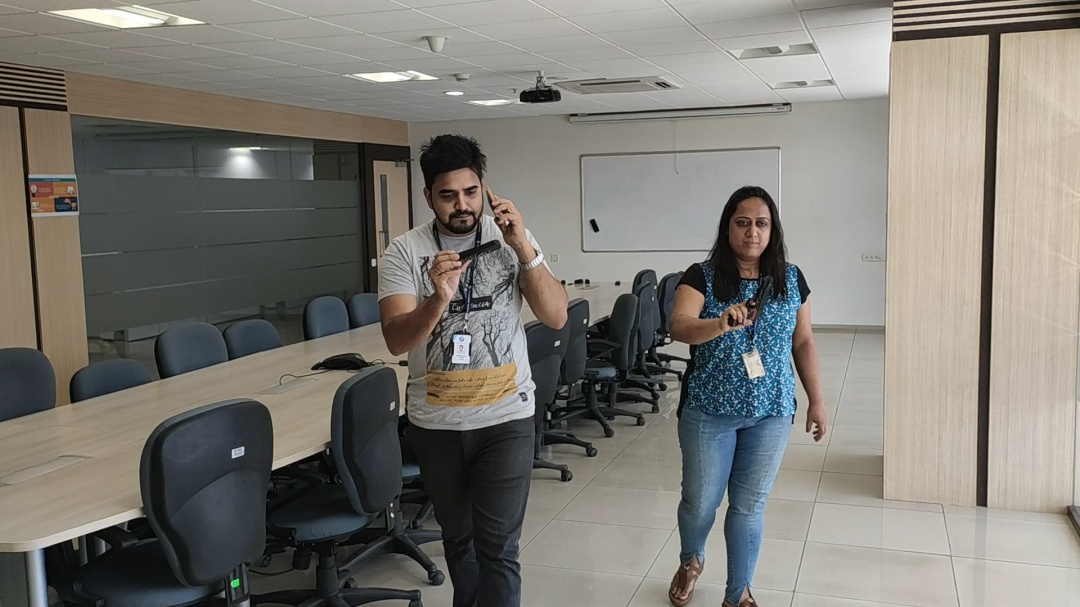gun: (728, 275, 773, 326)
